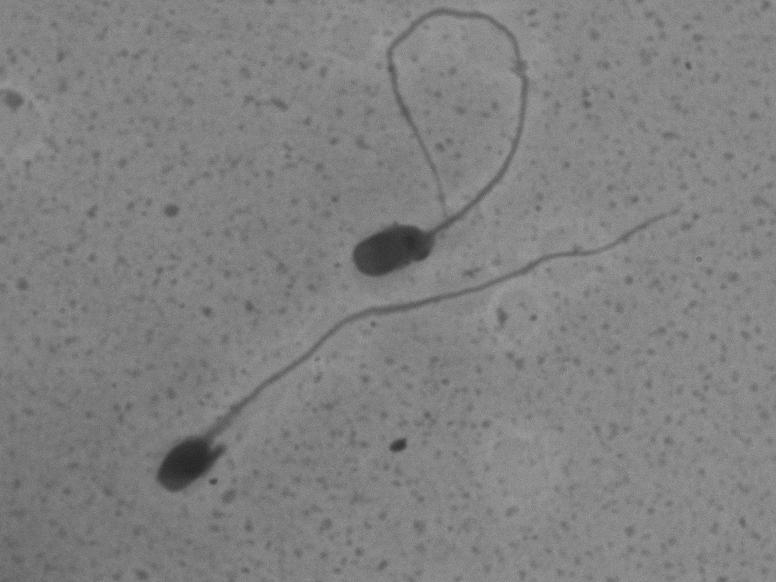Abnormal: (326, 4, 547, 280)
Normal: (139, 184, 709, 503)
